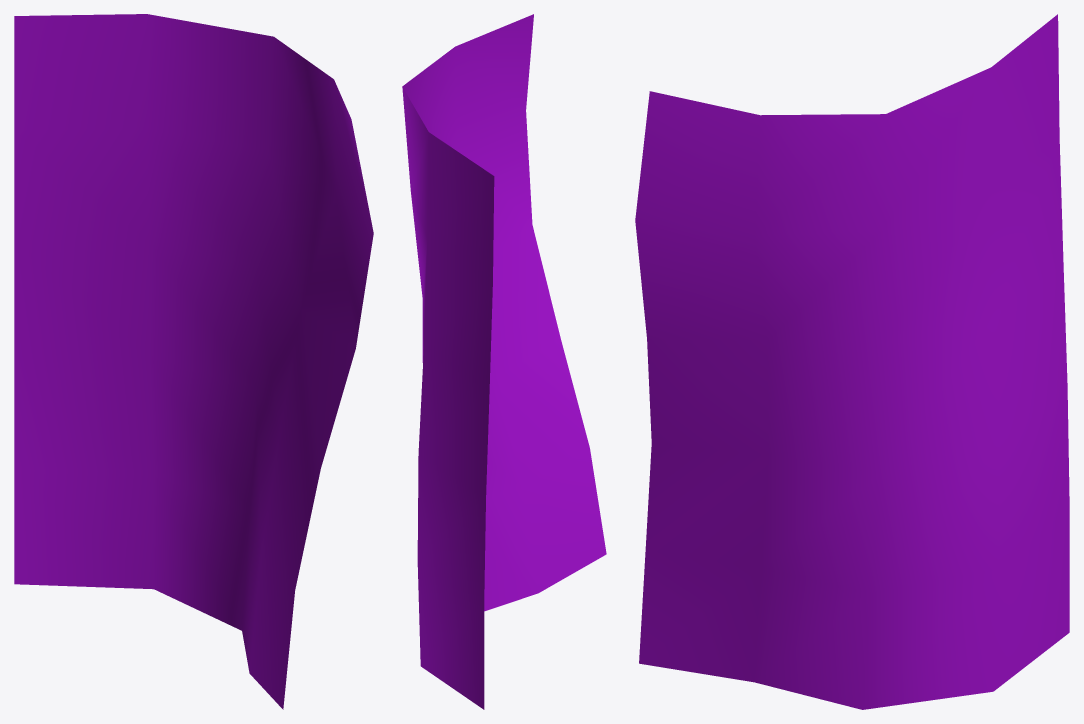
File: zettel_003.fbx
3 renders of one model, left to right at view 1: azimuth 30°, elevation 25°; view 2: azimuth 150°, elevation 25°; view 3: azimuth 270°, elevation 25°, orthographic. The views are drawn at different scales.
Parts seen in each view (by area): view 1: zettel_003; view 2: zettel_003; view 3: zettel_003.
Boxes of the visible parts, bbox=[...] form: zettel_003: bbox=[14, 14, 373, 709]; zettel_003: bbox=[402, 14, 606, 709]; zettel_003: bbox=[635, 14, 1069, 709].
Bounding box in the file's own units: 6.52 × 20.01 × 12.62.
